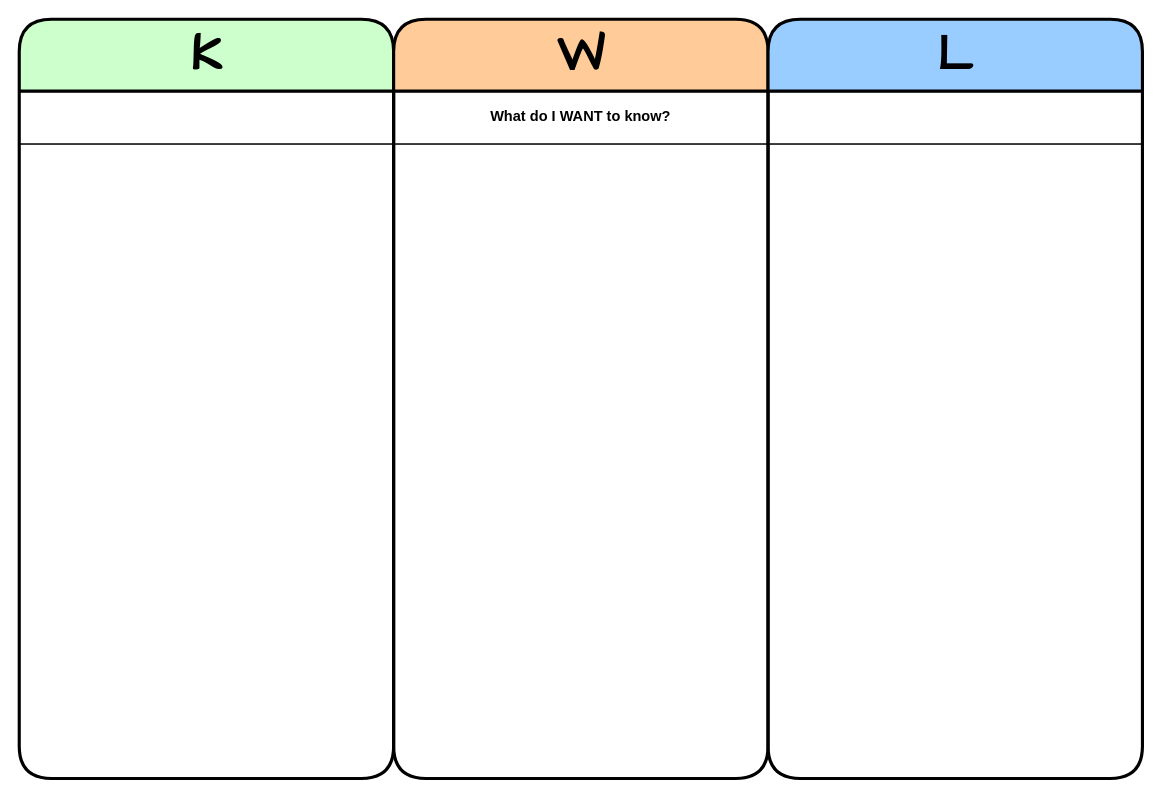
Some shapes in this 1162 by 798 pixel diagram are drawn without their labels. Here are the shapes that lost their labels. From the top down, the centre of each, then its label:
At (206,117): "What do I think I KNOW?".
At (954,117): "What did I LEARN?".
